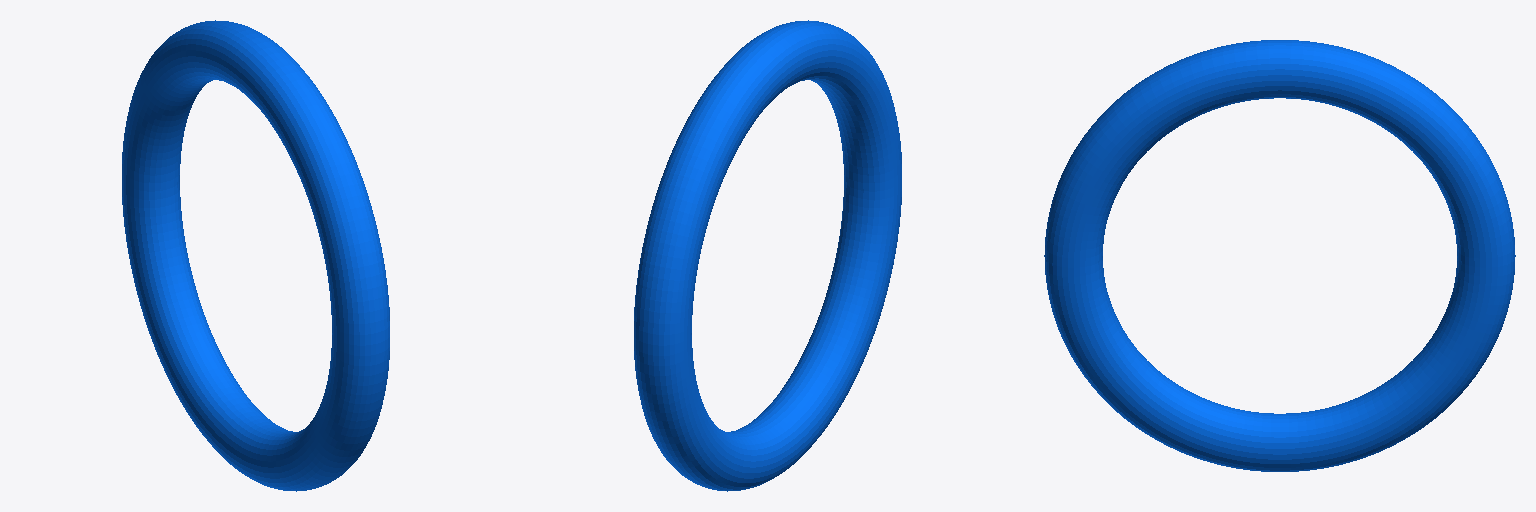
The robot description file, URDF, robot "ring":
<?xml version="0.0" ?>
<robot name="ring">
    <material name="blue">
        <color rgba="0.078431 0.494117 0.984313 1"/>
    </material>

    <link name="baseLink">
        <!-- from lego/lego.urdf -->
        <contact>
            <lateral_friction value="1.0"/>
            <rolling_friction value="0.0"/>
            <contact_cfm value="0.0"/>
            <contact_erp value="1.0"/>
        </contact>
        <inertial>
            <origin rpy="0 0 0" xyz="0 0 0"/>
            <mass value="0.5"/>
            <inertia ixx="1" ixy="0" ixz="0" iyy="1" iyz="0" izz="1"/>
        </inertial>
        <visual>
            <origin rpy="0 0 0" xyz="0 0 0"/>
            <geometry>
                <!--        radius: 10mm, depth: 14.5mm-->
                <mesh filename="meshes/ring_tao.obj" scale="1 1 1"/>
                <!--        <box size="0.002 0.002 0.002"/>-->
            </geometry>
            <material name="blue"/>
        </visual>
        <collision >
            <origin rpy="0 0 0" xyz="0 0 0"/>
            <geometry>
                <mesh filename="meshes/ring_vhacd_tao.obj" scale="1 1 1"/>
                <!--        <box size="0.002 0.002 0.002"/>-->
            </geometry>
        </collision>
    </link>

    <!-- for testing get linkstate -->
    <link name="waypoint_0">
        <!--    origin-->
        <inertial>
            <origin rpy="0 0 0" xyz="0 0 0"/>
            <mass value=".0"/>
            <inertia ixx="0." ixy="0" ixz="0" iyy="0." iyz="0" izz="0."/>
        </inertial>
    </link>

    <joint name="waypoint_joint_0" type="fixed">
        <parent link="baseLink"/>
        <child link="waypoint_0"/>
        <origin rpy="0 0 0" xyz="0 0 0"/>
    </joint>

    <link name="waypoint_1">
        <!--    origin-->
        <inertial>
            <origin rpy="0 0 0" xyz="0 0 0"/>
            <mass value=".0"/>
            <inertia ixx="0." ixy="0" ixz="0" iyy="0." iyz="0" izz="0."/>
        </inertial>
    </link>

    <joint name="waypoint_joint_1" type="fixed">
        <parent link="baseLink"/>
        <child link="waypoint_1"/>
        <origin rpy="0 0 0" xyz="0 0.4 0"/>
    </joint>

    <link name="waypoint_2">
        <!--    origin-->
        <inertial>
            <origin rpy="0 0 0" xyz="0 0 0"/>
            <mass value=".0"/>
            <inertia ixx="0." ixy="0" ixz="0" iyy="0." iyz="0" izz="0."/>
        </inertial>
    </link>

    <joint name="waypoint_joint_2" type="fixed">
        <parent link="baseLink"/>
        <child link="waypoint_2"/>
        <origin rpy="0 0 0" xyz="0 -0.125 0.375"/>
    </joint>

</robot>

--- Render facts (derived) ---
The picture shows the robot from 3 angles, left to right: view 1: azimuth 30°, elevation 25°; view 2: azimuth 150°, elevation 25°; view 3: azimuth 270°, elevation 25°; orthographic projection.
Model ring with 4 links and 3 joints (3 fixed), rooted at baseLink, posed every joint at zero.
Links seen in each view (by area): view 1: baseLink; view 2: baseLink; view 3: baseLink.
Link boxes in pixels (x1,y1,x2,y2): baseLink: [122, 20, 389, 491]; baseLink: [634, 20, 901, 491]; baseLink: [1044, 40, 1515, 471].
Size in the robot's own frame: 0.0605 by 0.5147 by 0.5147 metres.
Meshes: 1 distinct files referenced, 1 mesh visuals loaded (1 OBJ).
